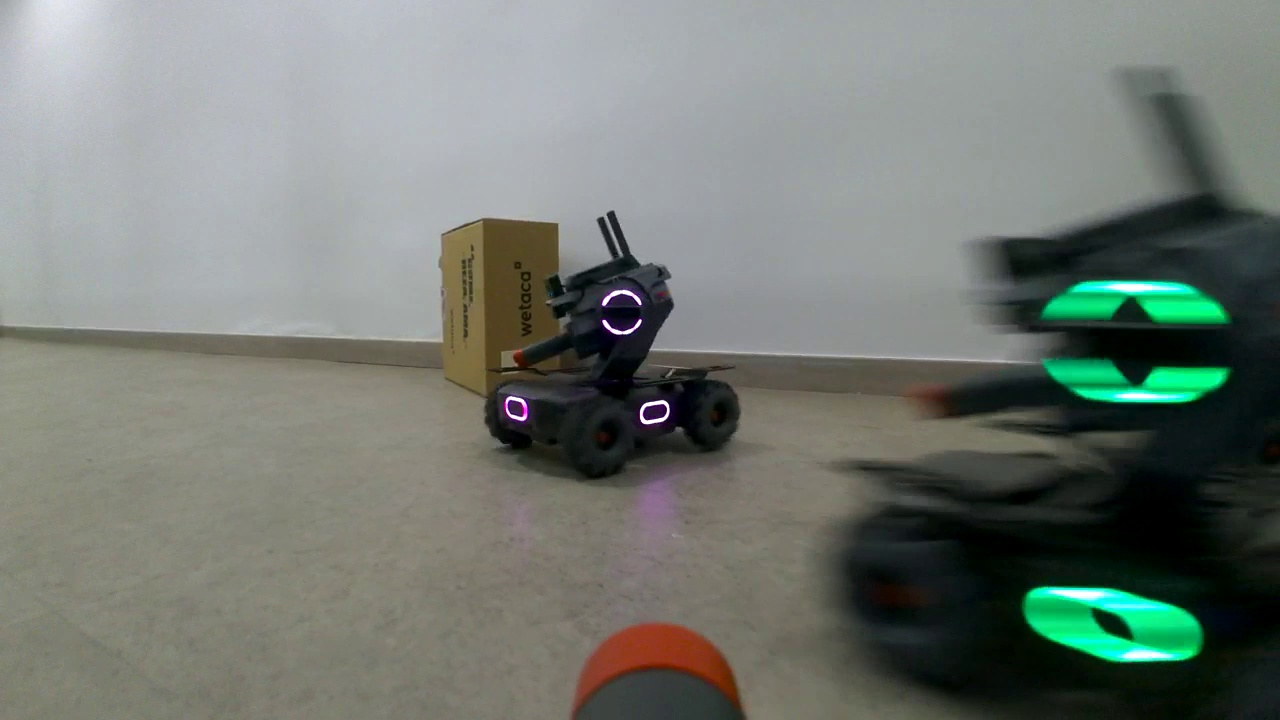robot: (850, 190, 1277, 716), (483, 256, 742, 482)
